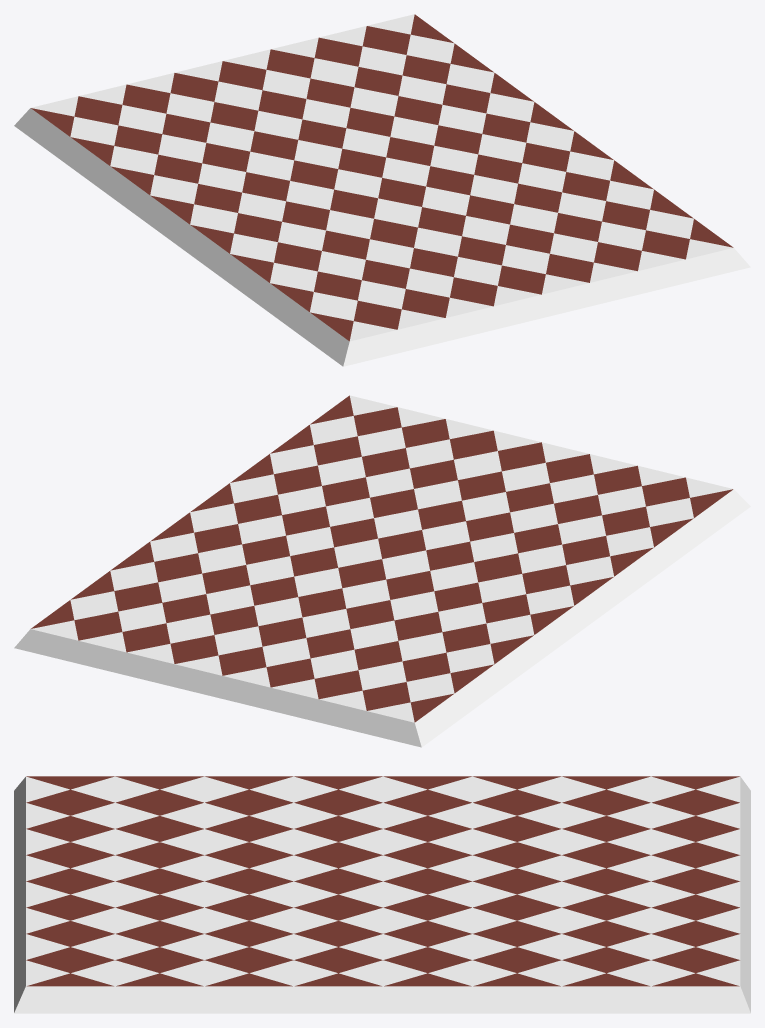
Rendered from carddiamonds01.obj.
The picture shows the model from 3 angles, top to bottom: view 1: azimuth 30°, elevation 25°; view 2: azimuth 150°, elevation 25°; view 3: azimuth 270°, elevation 25°; orthographic projection. The views are drawn at different scales.
Parts seen in each view (by area): view 1: Cube; view 2: Cube; view 3: Cube.
Boxes of the visible parts, x1=… form: Cube: x1=14, y1=14, x2=750, y2=366; Cube: x1=14, y1=395, x2=750, y2=747; Cube: x1=14, y1=776, x2=750, y2=1013.
Size of the model in its own units: 0.0635 by 0.00308 by 0.0888.
